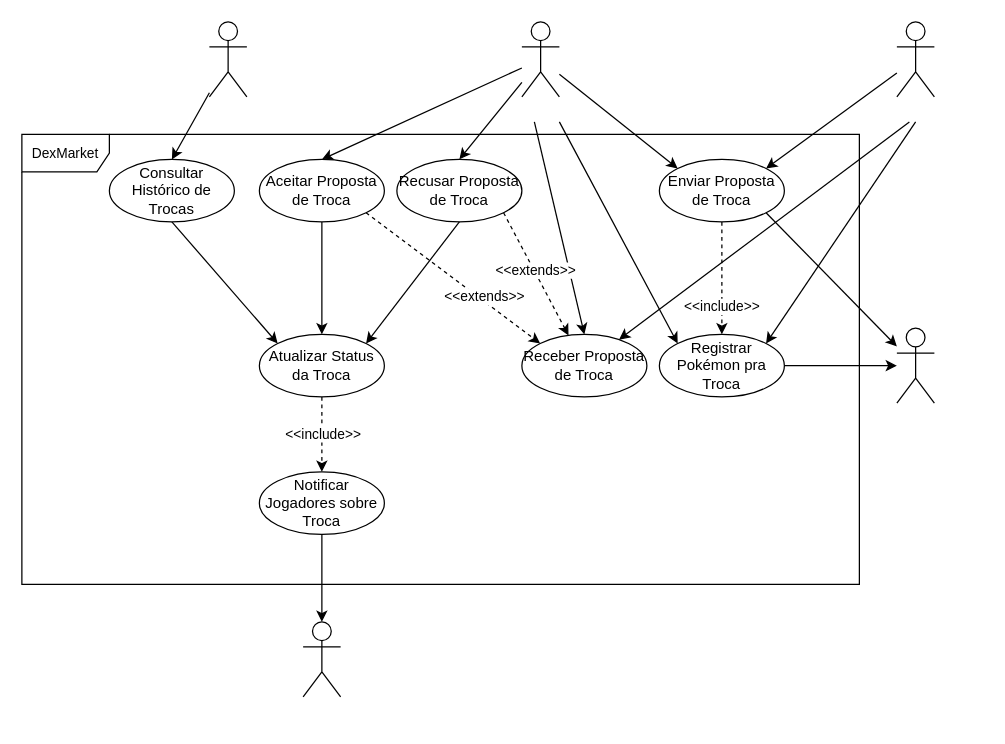
This 1005x744 diagram has some shape labels left out. The centre of each missing label's shape, as x and y in pixels:
Admin (interno): point (227, 59)
Distribuição de Cartas: point (915, 365)
Serviço de Jogadores: point (915, 59)
Treinador: point (540, 59)
Visualização de Trocas: point (321, 659)
